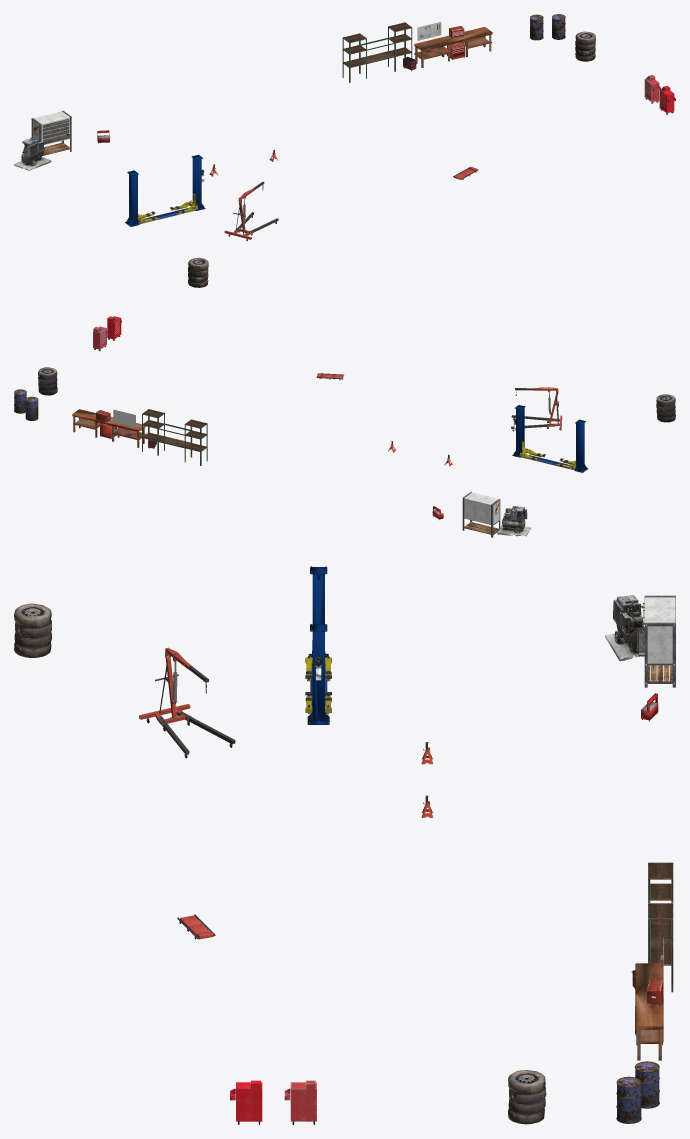
File: decor.glb
3 views of the same model, one above another, from view 1: azimuth 30°, elevation 25°; view 2: azimuth 150°, elevation 25°; view 3: azimuth 270°, elevation 25° (orthographic). The views are drawn at different scales.
Visible parts, largest first — view 1: Object_3, Material2 (×2), Retopo_model to retopo_Material_0, Shelf_Shelves_0, Object_2, defaultMaterial, Shelf_Beam_0, rack.001_rack.001_0, rack_rack_0; view 2: Object_3, Retopo_model to retopo_Material_0, Shelf_Shelves_0, Material2, Object_2, defaultMaterial, Shelf_Beam_0, rack.001_rack.001_0, rack_rack_0; view 3: Retopo_model to retopo_Material_0, Material2 (×2), Object_3, Shelf_Shelves_0, defaultMaterial, Object_2, rack_rack_0, SM_Tool_trolley_big_draw_M_Tool_trolley_0, SM_Tool_trolley_big_draw.001_M_Tool_trolley_worn_0, MainFrame_M_RedMetal_EH_0, Hook_M_BlackMetal_EH_0, rack.001_rack.001_0.
Boxes of the visible parts, <box> form: Object_3: <box>414,22,492,67</box>; Material2 (×2): <box>31,110,71,155</box>; Retopo_model to retopo_Material_0: <box>188,31,595,287</box>; Shelf_Shelves_0: <box>343,22,411,67</box>; Object_2: <box>14,137,51,170</box>; defaultMaterial: <box>529,14,565,40</box>; Shelf_Beam_0: <box>342,26,412,82</box>; rack.001_rack.001_0: <box>125,170,139,226</box>; rack_rack_0: <box>191,154,205,210</box>; Object_3: <box>72,409,145,447</box>; Retopo_model to retopo_Material_0: <box>38,367,675,422</box>; Shelf_Shelves_0: <box>142,409,206,451</box>; Material2: <box>464,492,499,524</box>; Object_2: <box>497,506,531,536</box>; defaultMaterial: <box>14,389,38,420</box>; Shelf_Beam_0: <box>142,413,207,465</box>; rack.001_rack.001_0: <box>574,419,588,472</box>; rack_rack_0: <box>512,405,525,457</box>; Retopo_model to retopo_Material_0: <box>14,603,546,1124</box>; Material2 (×2): <box>638,595,675,687</box>; Object_3: <box>635,937,663,1060</box>; Shelf_Shelves_0: <box>648,862,673,965</box>; defaultMaterial: <box>616,1061,659,1123</box>; Object_2: <box>605,595,644,661</box>; rack_rack_0: <box>307,624,329,724</box>; SM_Tool_trolley_big_draw_M_Tool_trolley_0: <box>230,1080,315,1124</box>; SM_Tool_trolley_big_draw.001_M_Tool_trolley_worn_0: <box>284,1080,316,1121</box>; MainFrame_M_RedMetal_EH_0: <box>139,647,191,726</box>; Hook_M_BlackMetal_EH_0: <box>155,663,235,754</box>; rack.001_rack.001_0: <box>309,566,327,665</box>.
Size of the model in its own units: 25.6 by 2.29 by 14.61.
35 materials, 29 textured.
